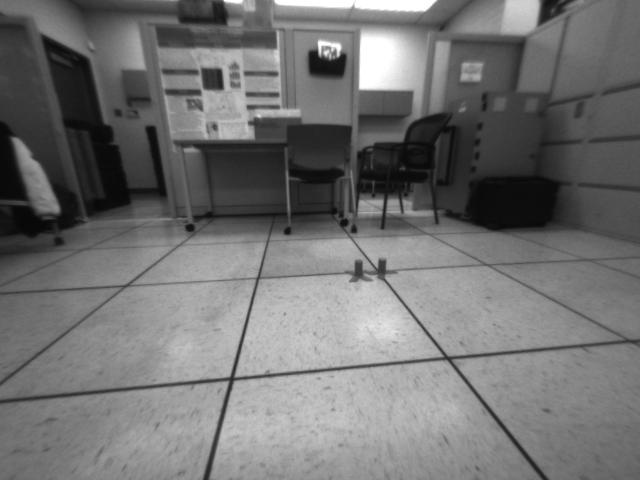X: (363, 258, 398, 281), (344, 258, 373, 284)
